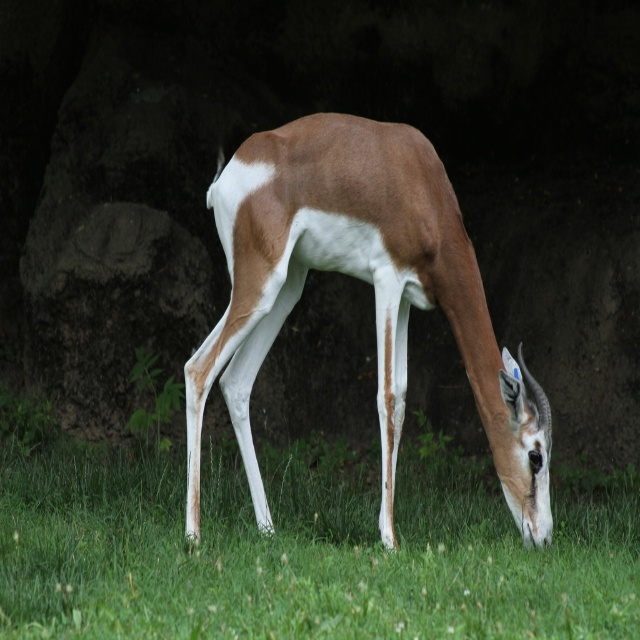Deer: (184, 112, 553, 557)
